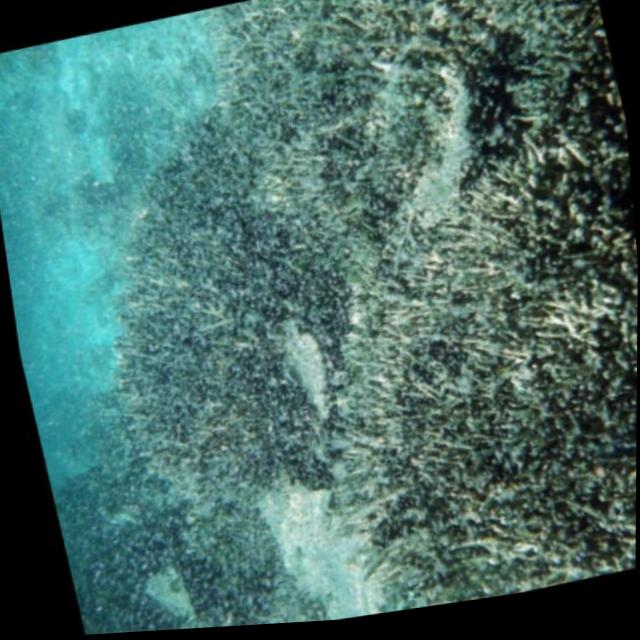Dead Coral: (6, 0, 640, 640), (298, 207, 639, 626), (186, 0, 637, 299), (86, 258, 335, 578)
